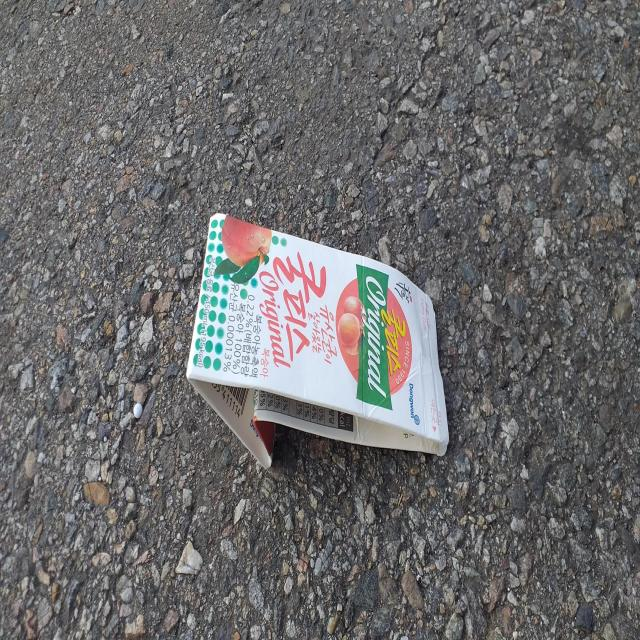paperpack: (186, 212, 449, 468)
